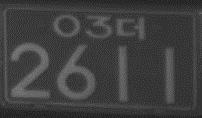0: (52, 12, 82, 38)
1: (154, 45, 186, 105), (107, 45, 139, 102)
2: (10, 41, 51, 99)
3: (84, 14, 113, 39)
6: (56, 44, 97, 100)
더: (115, 16, 146, 41)
